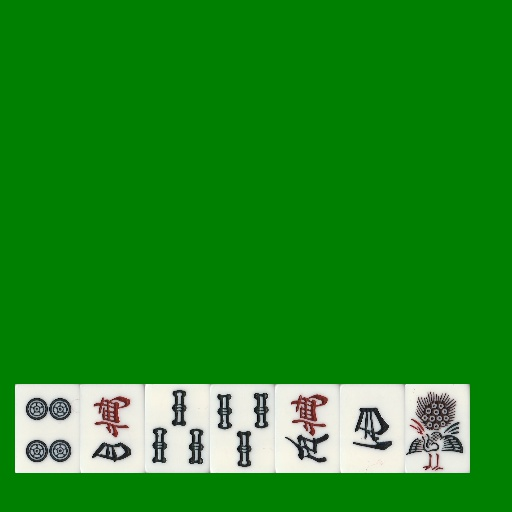1s: (405, 384, 470, 473)
3s: (145, 384, 210, 473), (210, 384, 275, 473)
4m: (80, 384, 145, 473)
4p: (15, 384, 80, 473)
5m: (275, 384, 340, 473)
west: (340, 384, 405, 473)
